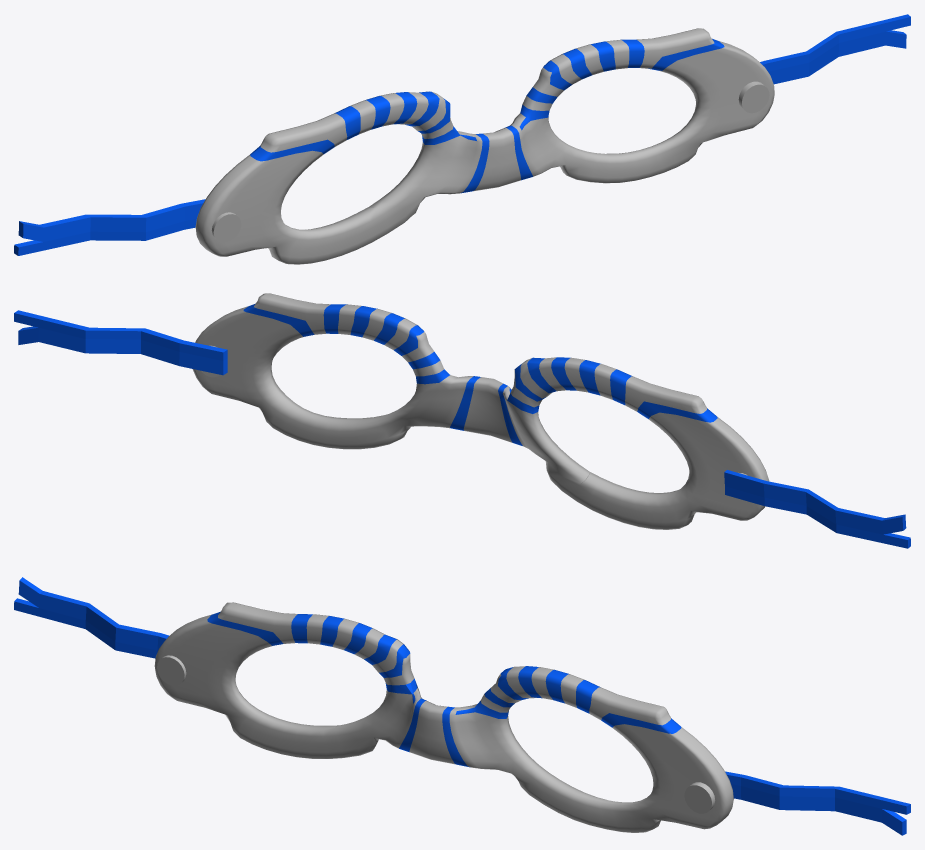
Rendered from Climbing_Mask.fbx.
3 views of the same model, one above another, from view 1: azimuth 30°, elevation 25°; view 2: azimuth 150°, elevation 25°; view 3: azimuth 330°, elevation 25° (orthographic).
Visible parts, largest first — view 1: Climb_mask; view 2: Climb_mask; view 3: Climb_mask.
Part boxes in pixels (box(x1,y1,x2,y2)): Climb_mask: box(14, 14, 910, 264); Climb_mask: box(14, 293, 910, 548); Climb_mask: box(14, 577, 910, 835).
Size of the model in its own units: 64.53 by 10.22 by 5.03.
